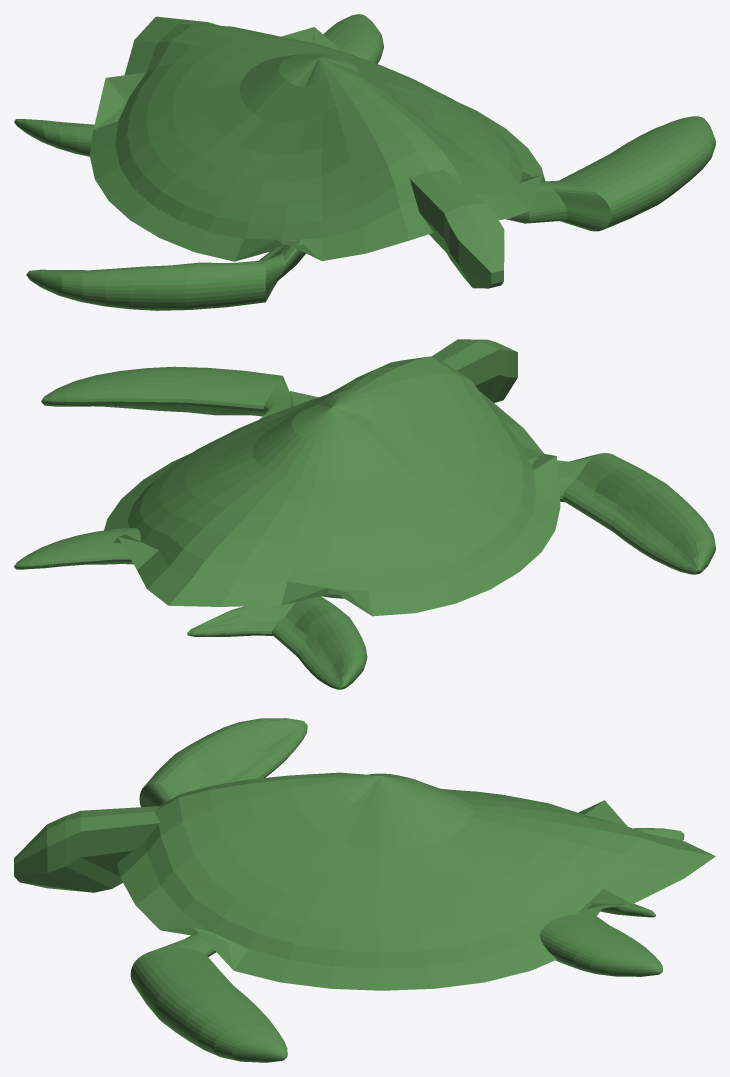
File: turtle.fbx
3 views of the same model, one above another, from view 1: azimuth 30°, elevation 25°; view 2: azimuth 150°, elevation 25°; view 3: azimuth 270°, elevation 25° (orthographic). The views are drawn at different scales.
Parts seen in each view (by area): view 1: Cube.001, Cube.003, Cube.004, Cube, Cube.002, Cube.005, Cube.006; view 2: Cube.001, Cube.004, Cube.003, Cube.006, Cube, Cube.005, Cube.002; view 3: Cube.001, Cube.002, Cube.003, Cube, Cube.004, Cube.005, Cube.006.
Part boxes in pixels (<box>): Cube.001: <box>89,16,545,261</box>; Cube.003: <box>506,116,715,231</box>; Cube.004: <box>26,238,305,310</box>; Cube: <box>409,169,504,288</box>; Cube.002: <box>319,54,527,147</box>; Cube.005: <box>323,14,383,63</box>; Cube.006: <box>14,119,94,156</box>; Cube.001: <box>104,356,560,616</box>; Cube.004: <box>527,453,715,574</box>; Cube.003: <box>41,366,289,416</box>; Cube.006: <box>187,596,367,689</box>; Cube: <box>432,339,517,402</box>; Cube.005: <box>14,527,140,569</box>; Cube.002: <box>143,390,354,479</box>; Cube.001: <box>117,772,715,990</box>; Cube.002: <box>306,775,416,990</box>; Cube.003: <box>130,932,287,1062</box>; Cube: <box>14,806,160,892</box>; Cube.004: <box>139,718,307,807</box>; Cube.005: <box>540,914,662,976</box>; Cube.006: <box>600,828,684,917</box>.
Bounding box in the file's own units: 3221 × 683 × 2860.
